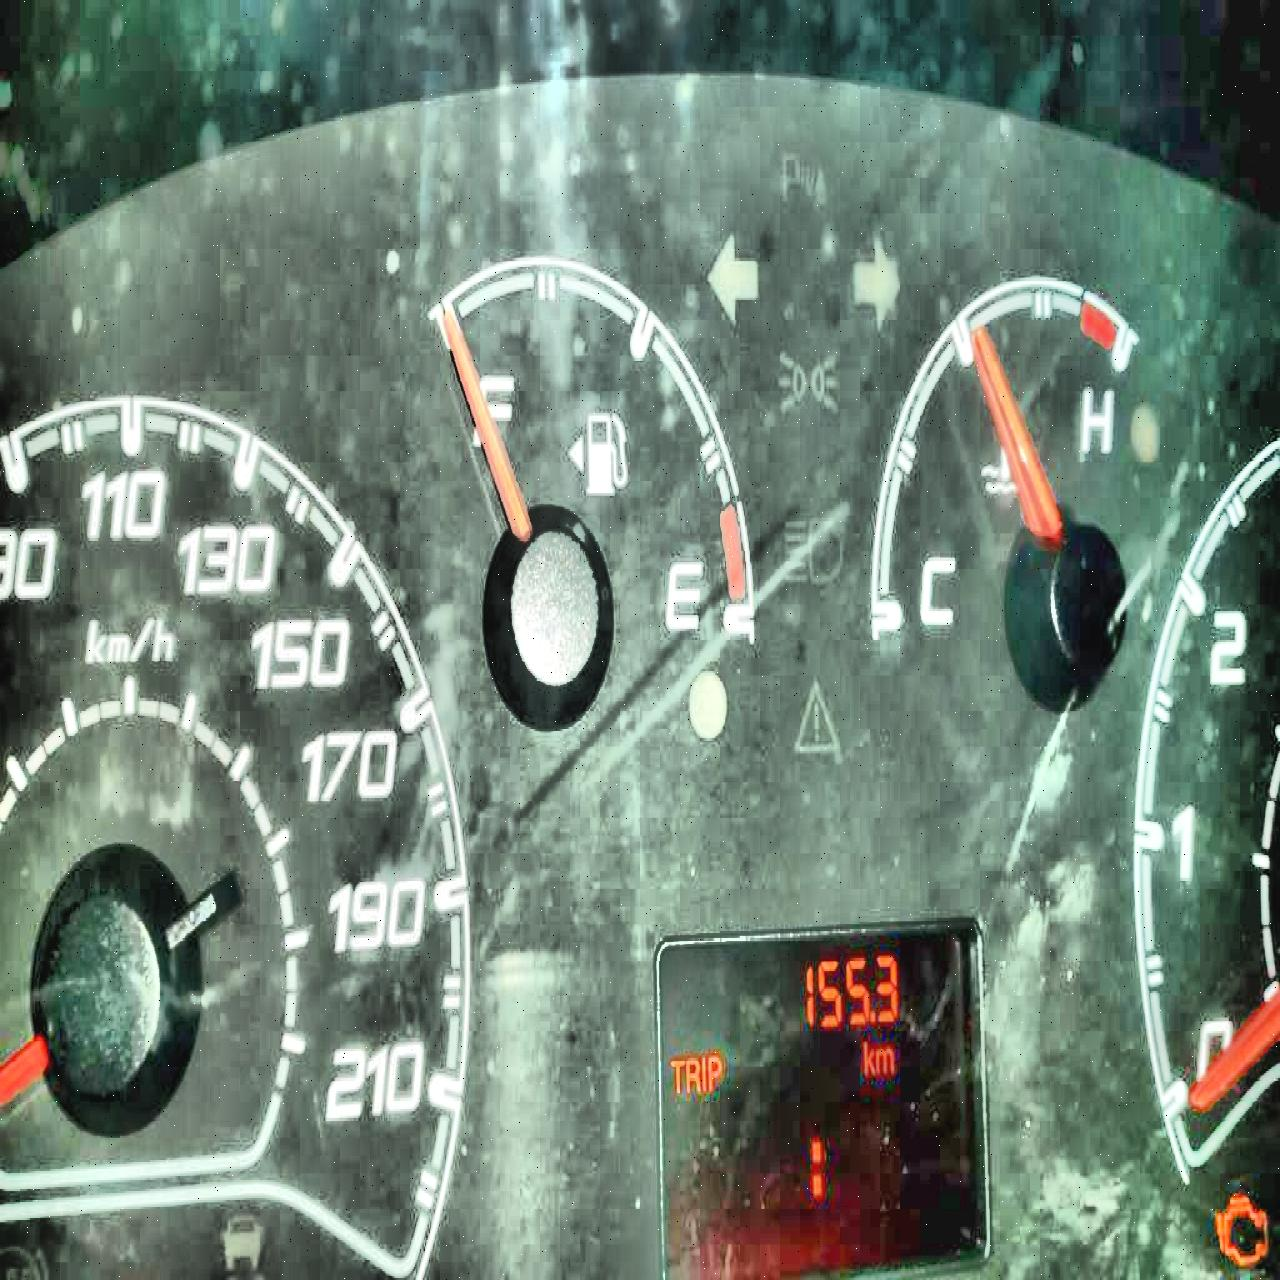-: (867, 1007, 874, 1024)
1: (804, 958, 813, 1027)
3: (874, 951, 896, 1022)
5: (844, 952, 867, 1027), (818, 955, 840, 1032)
X: (809, 1126, 825, 1206), (667, 1051, 683, 1098), (685, 1054, 700, 1094), (874, 1044, 894, 1074), (707, 1051, 722, 1089), (862, 1035, 873, 1076), (701, 1051, 707, 1096)
odometer: (649, 911, 993, 1278)
